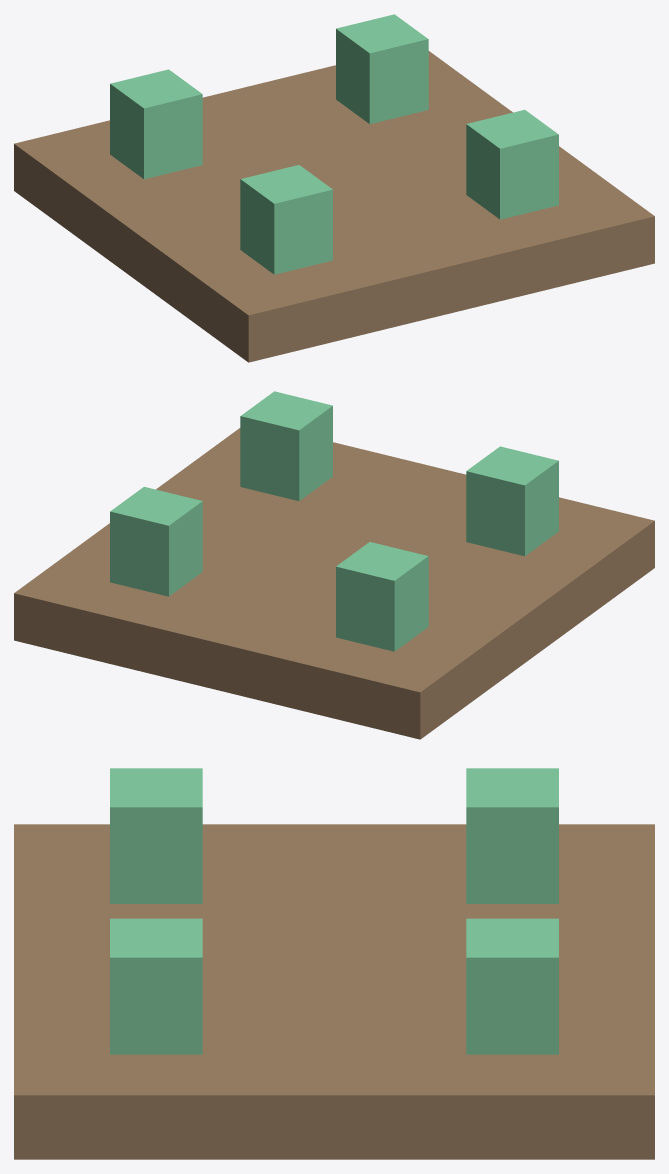
File: Prop_DS_Crop_Clover_S1_V1.glb
The picture shows the model from 3 angles, top to bottom: view 1: azimuth 30°, elevation 25°; view 2: azimuth 150°, elevation 25°; view 3: azimuth 270°, elevation 25°; orthographic projection. The views are drawn at different scales.
Parts seen in each view (by area): view 1: Cube, Cube.003, Cube.004, Cube.001, Cube.002; view 2: Cube, Cube.004, Cube.003, Cube.001, Cube.002; view 3: Cube, Cube.003, Cube.004, Cube.001, Cube.002.
Part boxes in pixels (x1,y1,x2,y2): Cube: [14, 51, 654, 362]; Cube.003: [466, 109, 558, 219]; Cube.004: [336, 14, 428, 123]; Cube.001: [240, 165, 332, 274]; Cube.002: [110, 69, 202, 179]; Cube: [14, 428, 654, 739]; Cube.004: [110, 486, 202, 596]; Cube.003: [240, 391, 332, 500]; Cube.001: [466, 446, 558, 556]; Cube.002: [336, 542, 428, 651]; Cube: [14, 824, 654, 1159]; Cube.003: [110, 918, 202, 1054]; Cube.004: [466, 918, 558, 1054]; Cube.001: [110, 768, 202, 903]; Cube.002: [466, 768, 558, 903].
Size of the model in its own units: 0.9 by 0.25 by 0.9.
